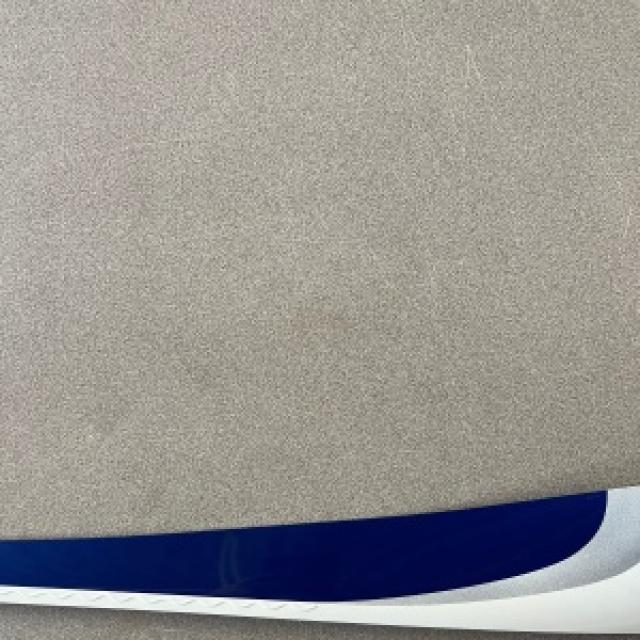healthy: (0, 0, 638, 535), (0, 606, 506, 638)
